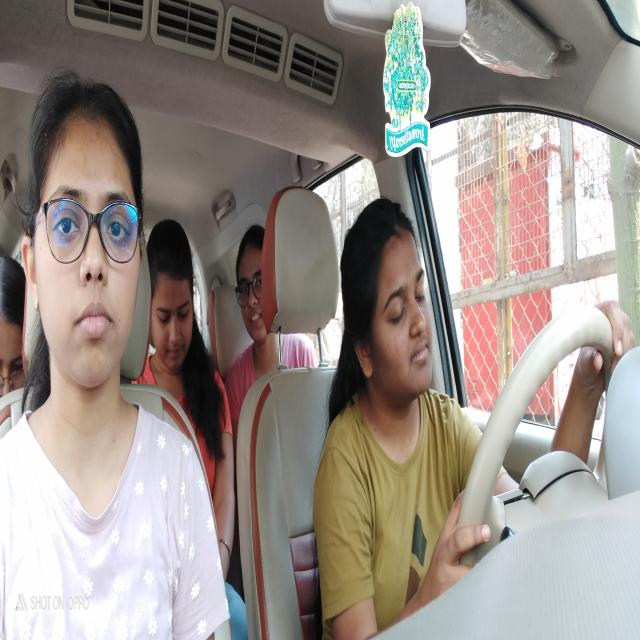drowsy: (337, 187, 439, 412)
person: (31, 69, 142, 403), (147, 212, 197, 374), (0, 241, 33, 426), (235, 219, 278, 356)
